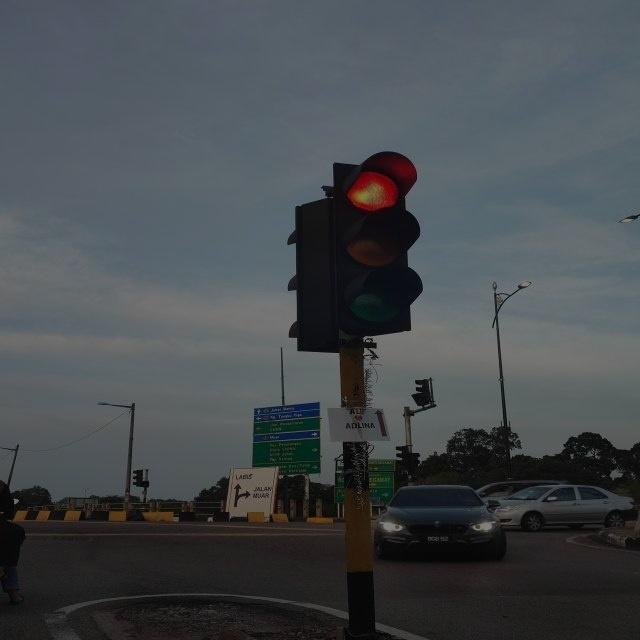Red: (337, 150, 422, 330)
